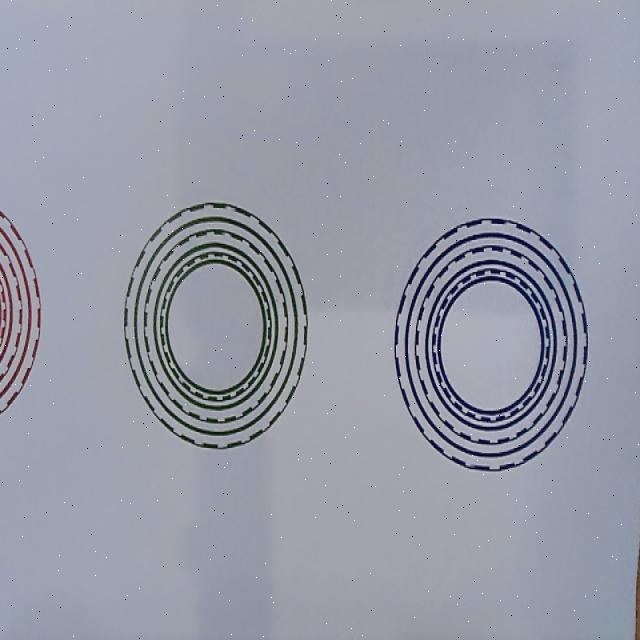b: (393, 216, 589, 472)
g: (124, 202, 309, 448)
